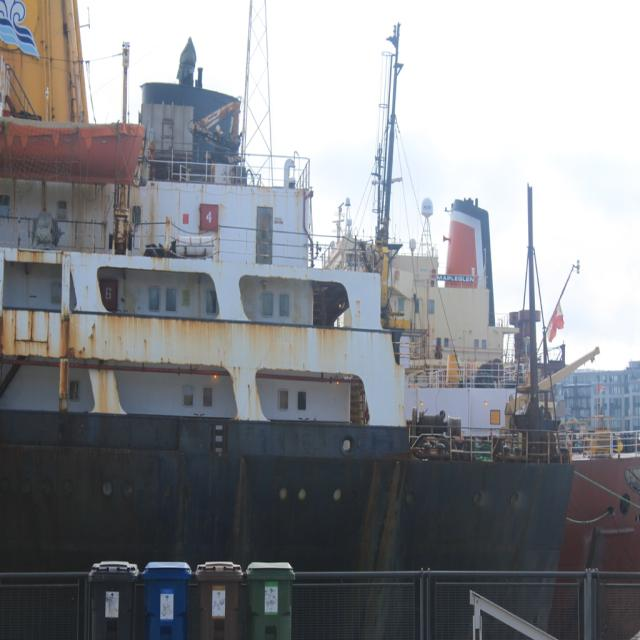Boat: (18, 0, 609, 601)
